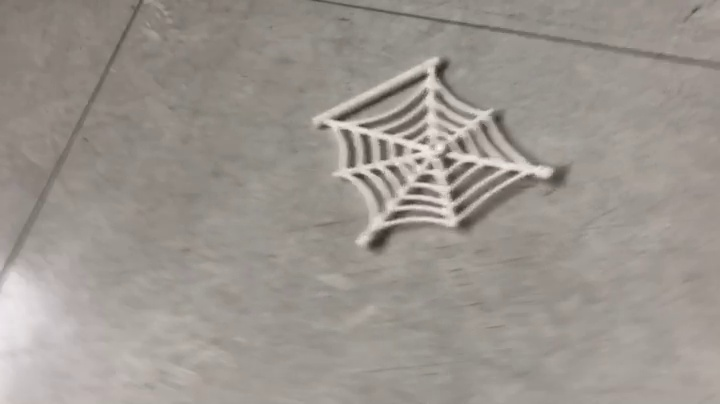web: (311, 56, 570, 252)
